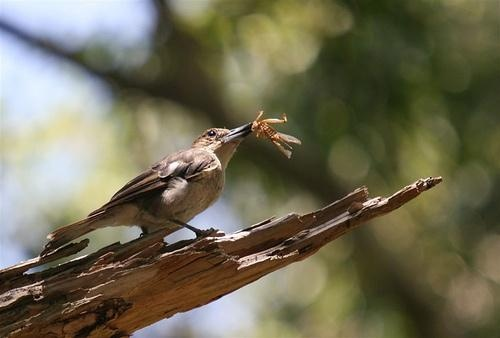bird: (40, 116, 259, 257)
